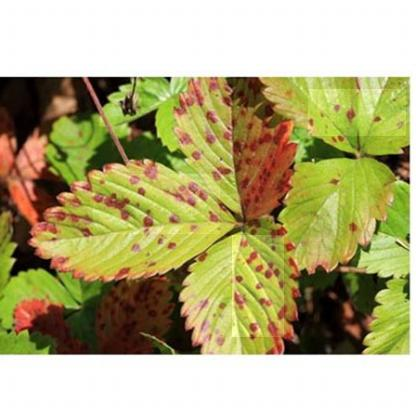black-spot: (93, 174, 220, 234), (232, 235, 284, 337), (191, 85, 261, 154), (308, 89, 406, 136)
